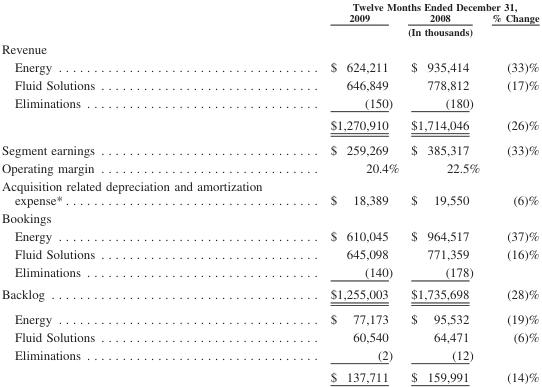table: (0, 0, 538, 383)
table column: (0, 0, 295, 383), (295, 0, 402, 383), (402, 0, 485, 383), (485, 0, 538, 383)
table column header: (0, 0, 538, 39)
table projected row header: (0, 39, 538, 57), (0, 208, 538, 226)
table row: (0, 176, 538, 208), (0, 11, 538, 39), (0, 113, 538, 136), (0, 283, 538, 306), (0, 136, 538, 158), (0, 262, 538, 283), (0, 306, 538, 327), (0, 93, 538, 113), (0, 345, 538, 365), (0, 39, 538, 57), (0, 57, 538, 75), (0, 75, 538, 93), (0, 158, 538, 176), (0, 208, 538, 226), (0, 226, 538, 244), (0, 244, 538, 262), (0, 327, 538, 345), (0, 365, 538, 383), (0, 0, 538, 11)
table spanning cell: (295, 0, 538, 11)
